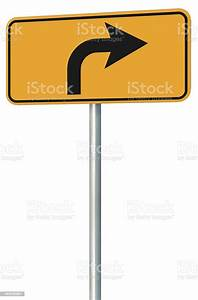right: (7, 9, 193, 103)
